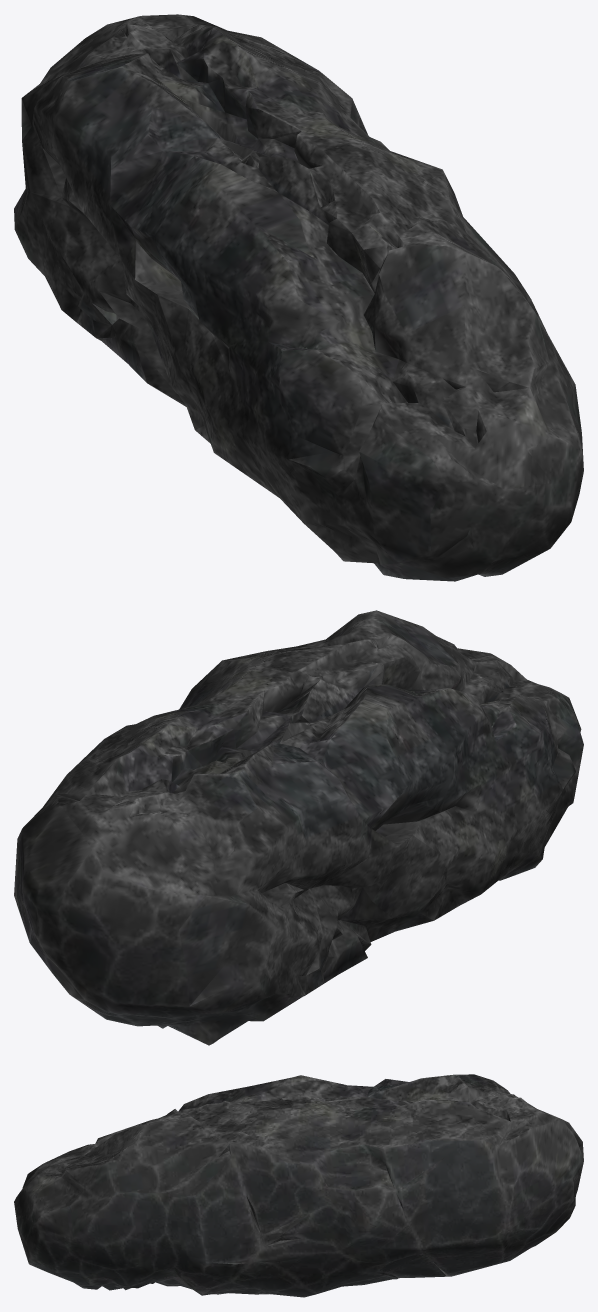
The model's file is asteroid-2.glb.
3 views of the same model, one above another, from view 1: azimuth 30°, elevation 25°; view 2: azimuth 150°, elevation 25°; view 3: azimuth 270°, elevation 25° (orthographic). The views are drawn at different scales.
Visible parts, largest first — view 1: asteroid-2; view 2: asteroid-2; view 3: asteroid-2.
Boxes of the visible parts, x1=… form: asteroid-2: x1=14, y1=14, x2=583, y2=581; asteroid-2: x1=14, y1=610, x2=583, y2=1045; asteroid-2: x1=14, y1=1074, x2=583, y2=1297.
Bounding box in the file's own units: 0.7845 × 0.7772 × 2.
1 material, 1 textured.
